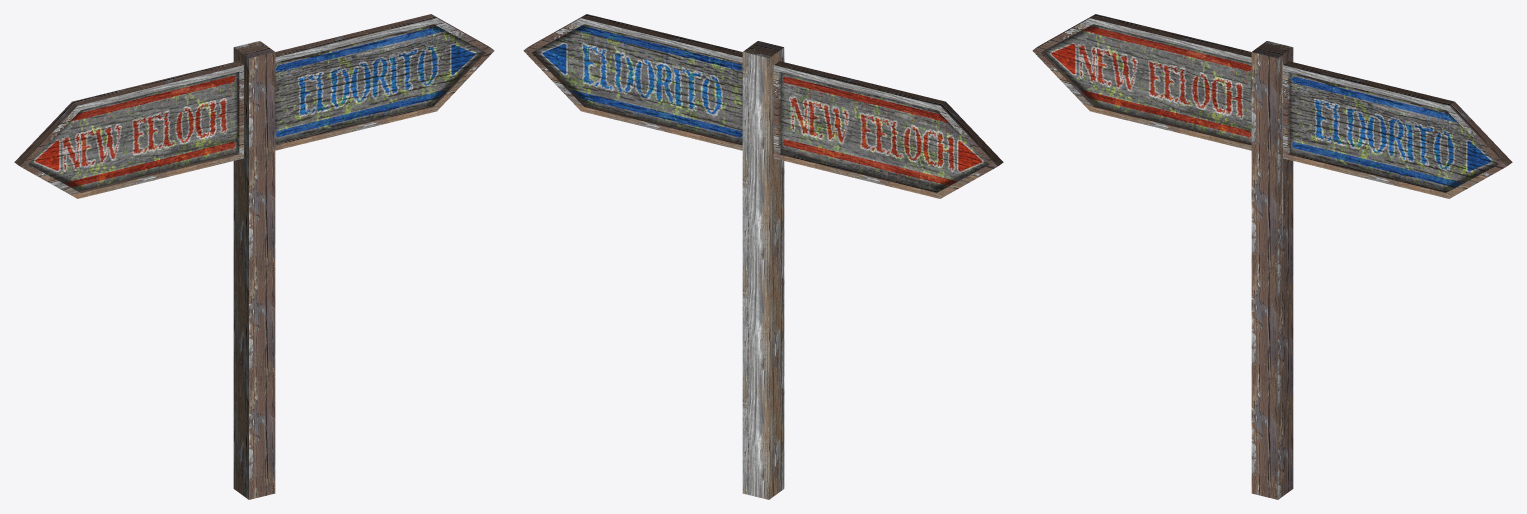
File: doublesign.fbx
The picture shows the model from 3 angles, left to right: view 1: azimuth 30°, elevation 25°; view 2: azimuth 150°, elevation 25°; view 3: azimuth 330°, elevation 25°; orthographic projection.
Parts seen in each view (by area): view 1: doublesign; view 2: doublesign; view 3: doublesign.
Boxes of the visible parts, x1,y1,x2,y2 form: doublesign: (14,14,494,499); doublesign: (523,14,1003,499); doublesign: (1032,14,1512,499).
Bounding box in the file's own units: 28800 × 25600 × 1600.
